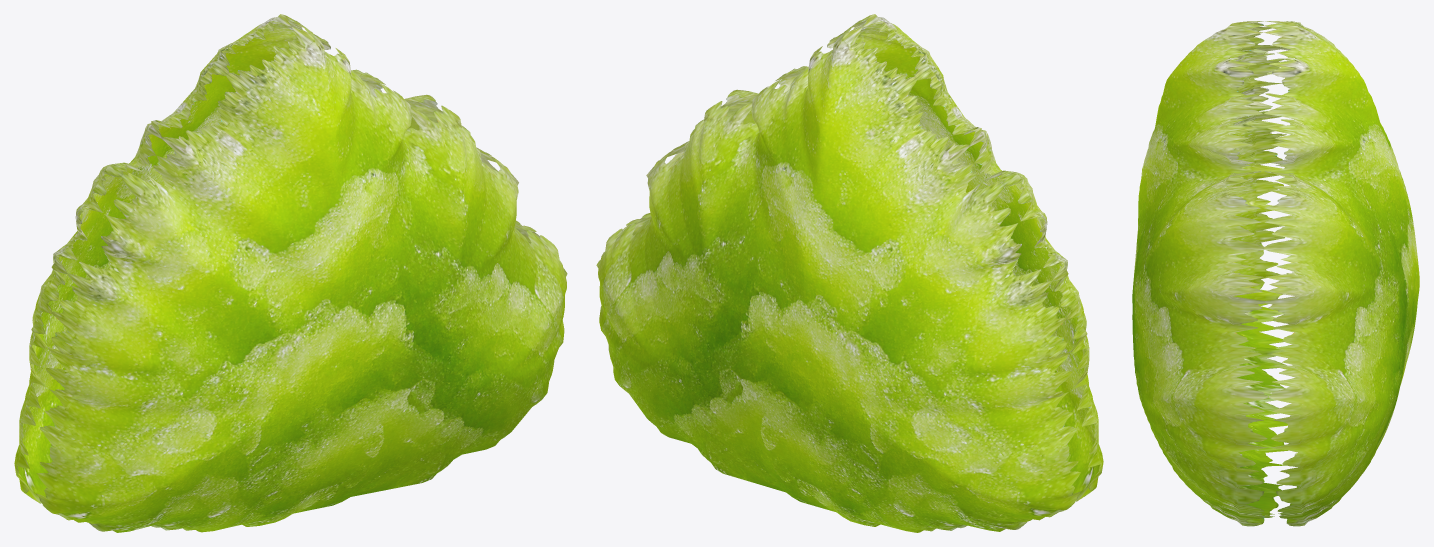
The model's file is margarita.glb.
3 views of the same model, side by side, from view 1: azimuth 30°, elevation 25°; view 2: azimuth 150°, elevation 25°; view 3: azimuth 270°, elevation 25° (orthographic). The views are drawn at different scales.
Parts seen in each view (by area): view 1: margarita; view 2: margarita; view 3: margarita.
Boxes of the visible parts, x1,y1,x2,y2 form: margarita: (14, 14, 567, 532); margarita: (596, 14, 1103, 532); margarita: (1132, 21, 1419, 526).
Size of the model in its own units: 1.98 by 1.83 by 1.03.
Materials: 1 (1 with a texture image).
